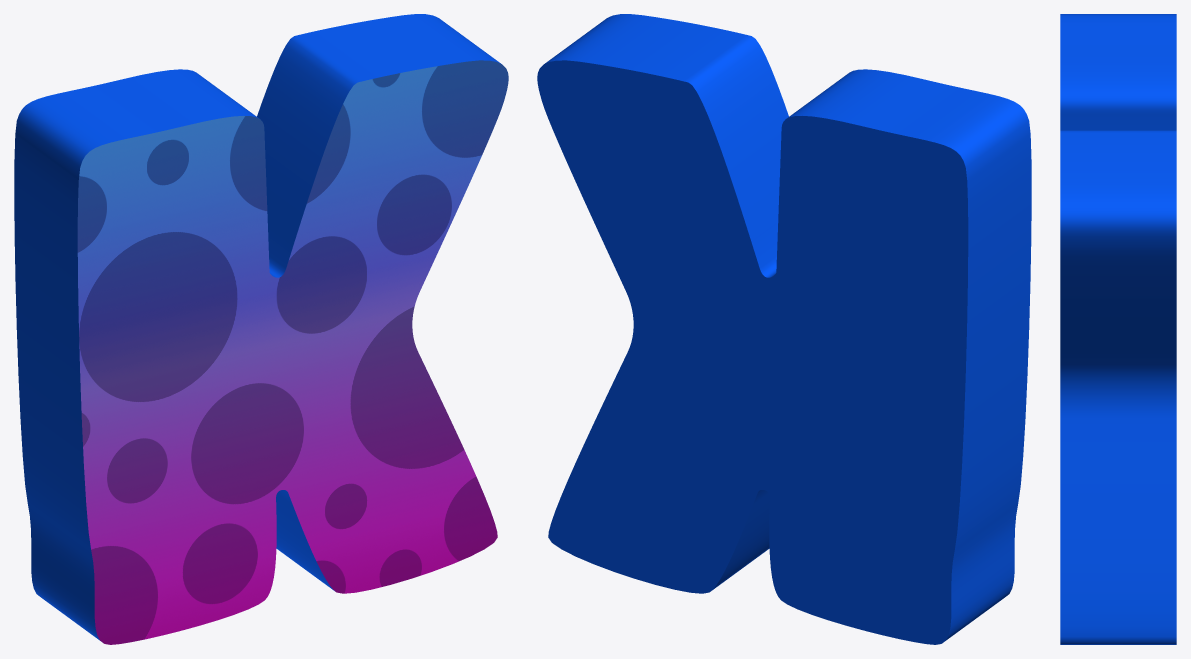
3 views of the same model, side by side, from view 1: azimuth 30°, elevation 25°; view 2: azimuth 150°, elevation 25°; view 3: azimuth 270°, elevation 25° (orthographic). The views are drawn at different scales.
Parts seen in each view (by area): view 1: K; view 2: K; view 3: K.
Boxes of the visible parts, left/top/right/bottom form: K: left=14, top=14, right=508, bottom=644; K: left=537, top=14, right=1031, bottom=644; K: left=1060, top=14, right=1176, bottom=644.
Size of the model in its own units: 78.47 by 88.85 by 20.
2 materials, 1 textured.
